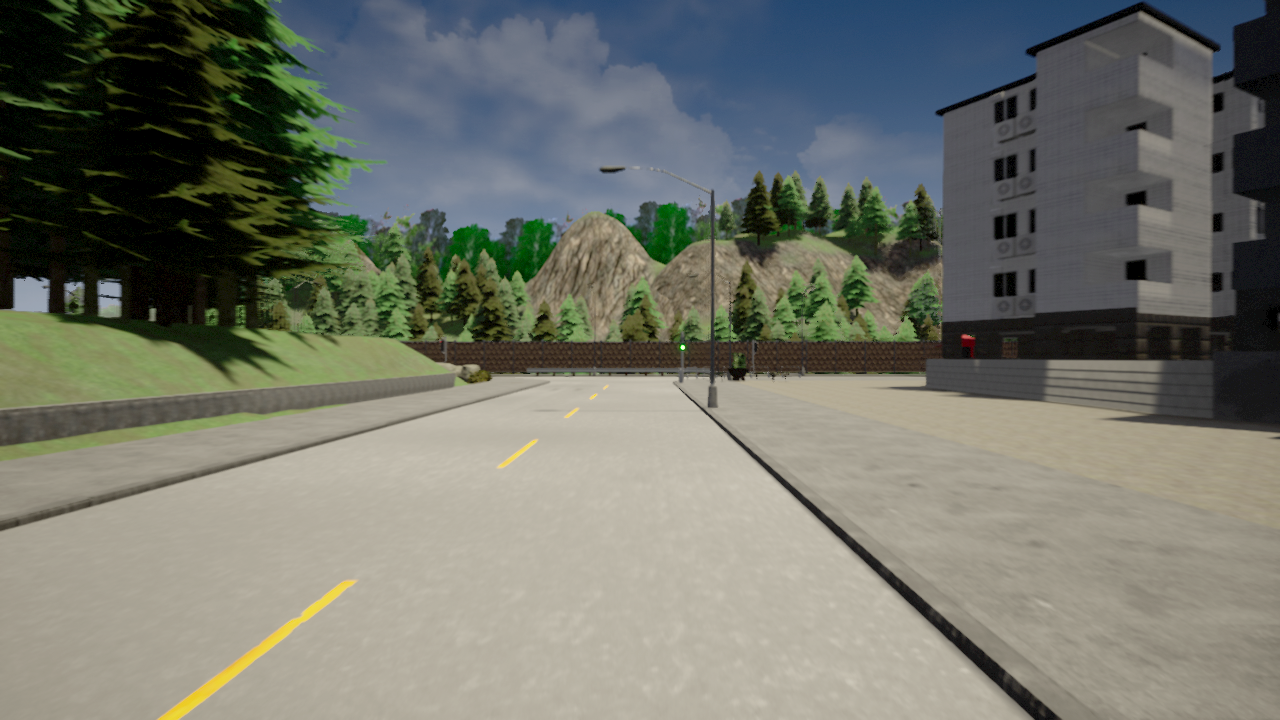green: (678, 335, 686, 351)
